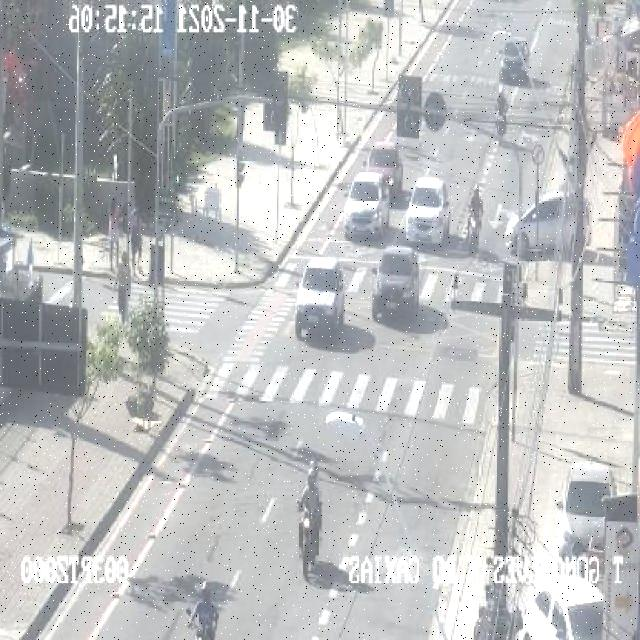Car: (552, 459, 619, 558), (519, 574, 607, 640), (506, 192, 594, 257), (294, 257, 346, 341), (372, 247, 422, 320), (344, 172, 392, 242), (403, 176, 449, 247), (363, 142, 404, 192), (498, 38, 530, 84)
Cycle: (294, 497, 326, 578), (184, 608, 221, 640), (466, 202, 483, 252)
